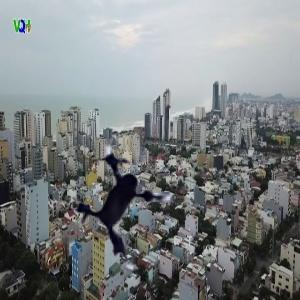drone: (55, 129, 208, 282)
